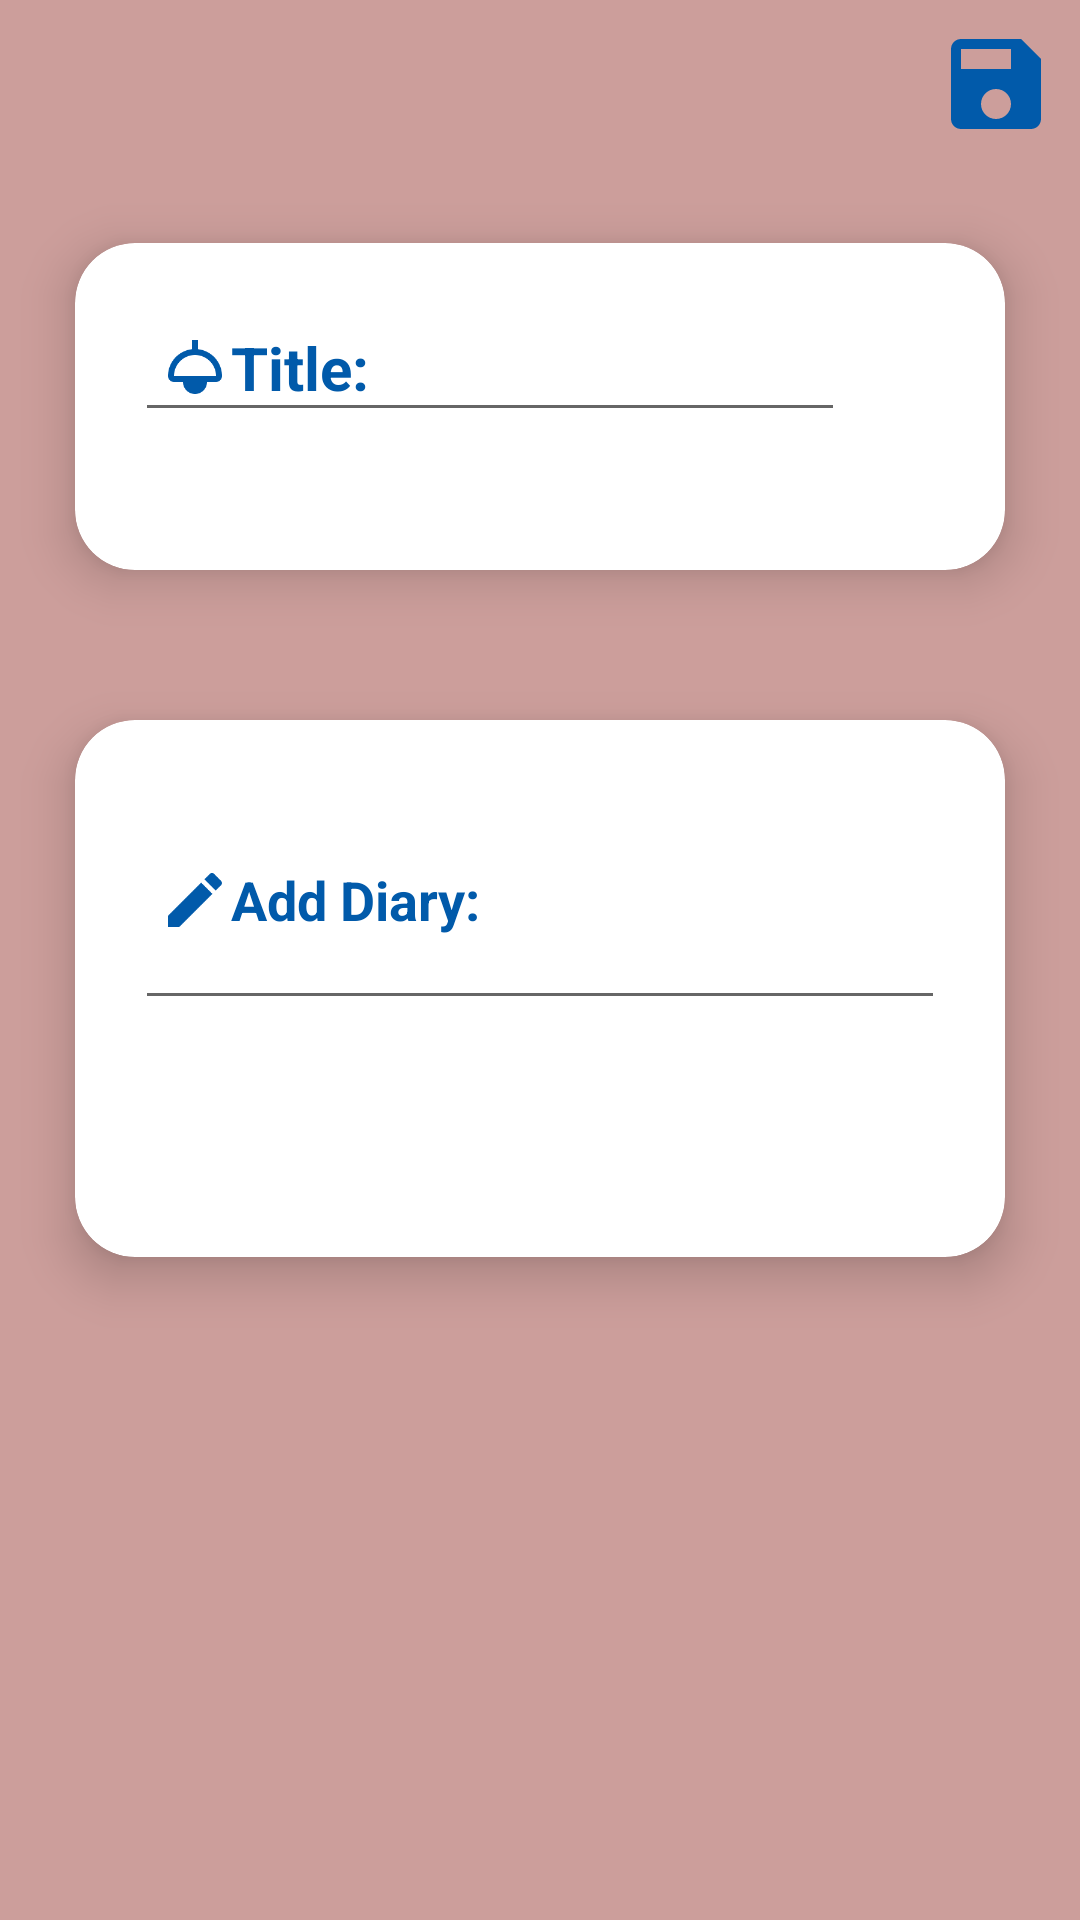

Icon click points for this 1080 × 1920 phone screenshot, format point (x, y):
save: point (996, 84)
